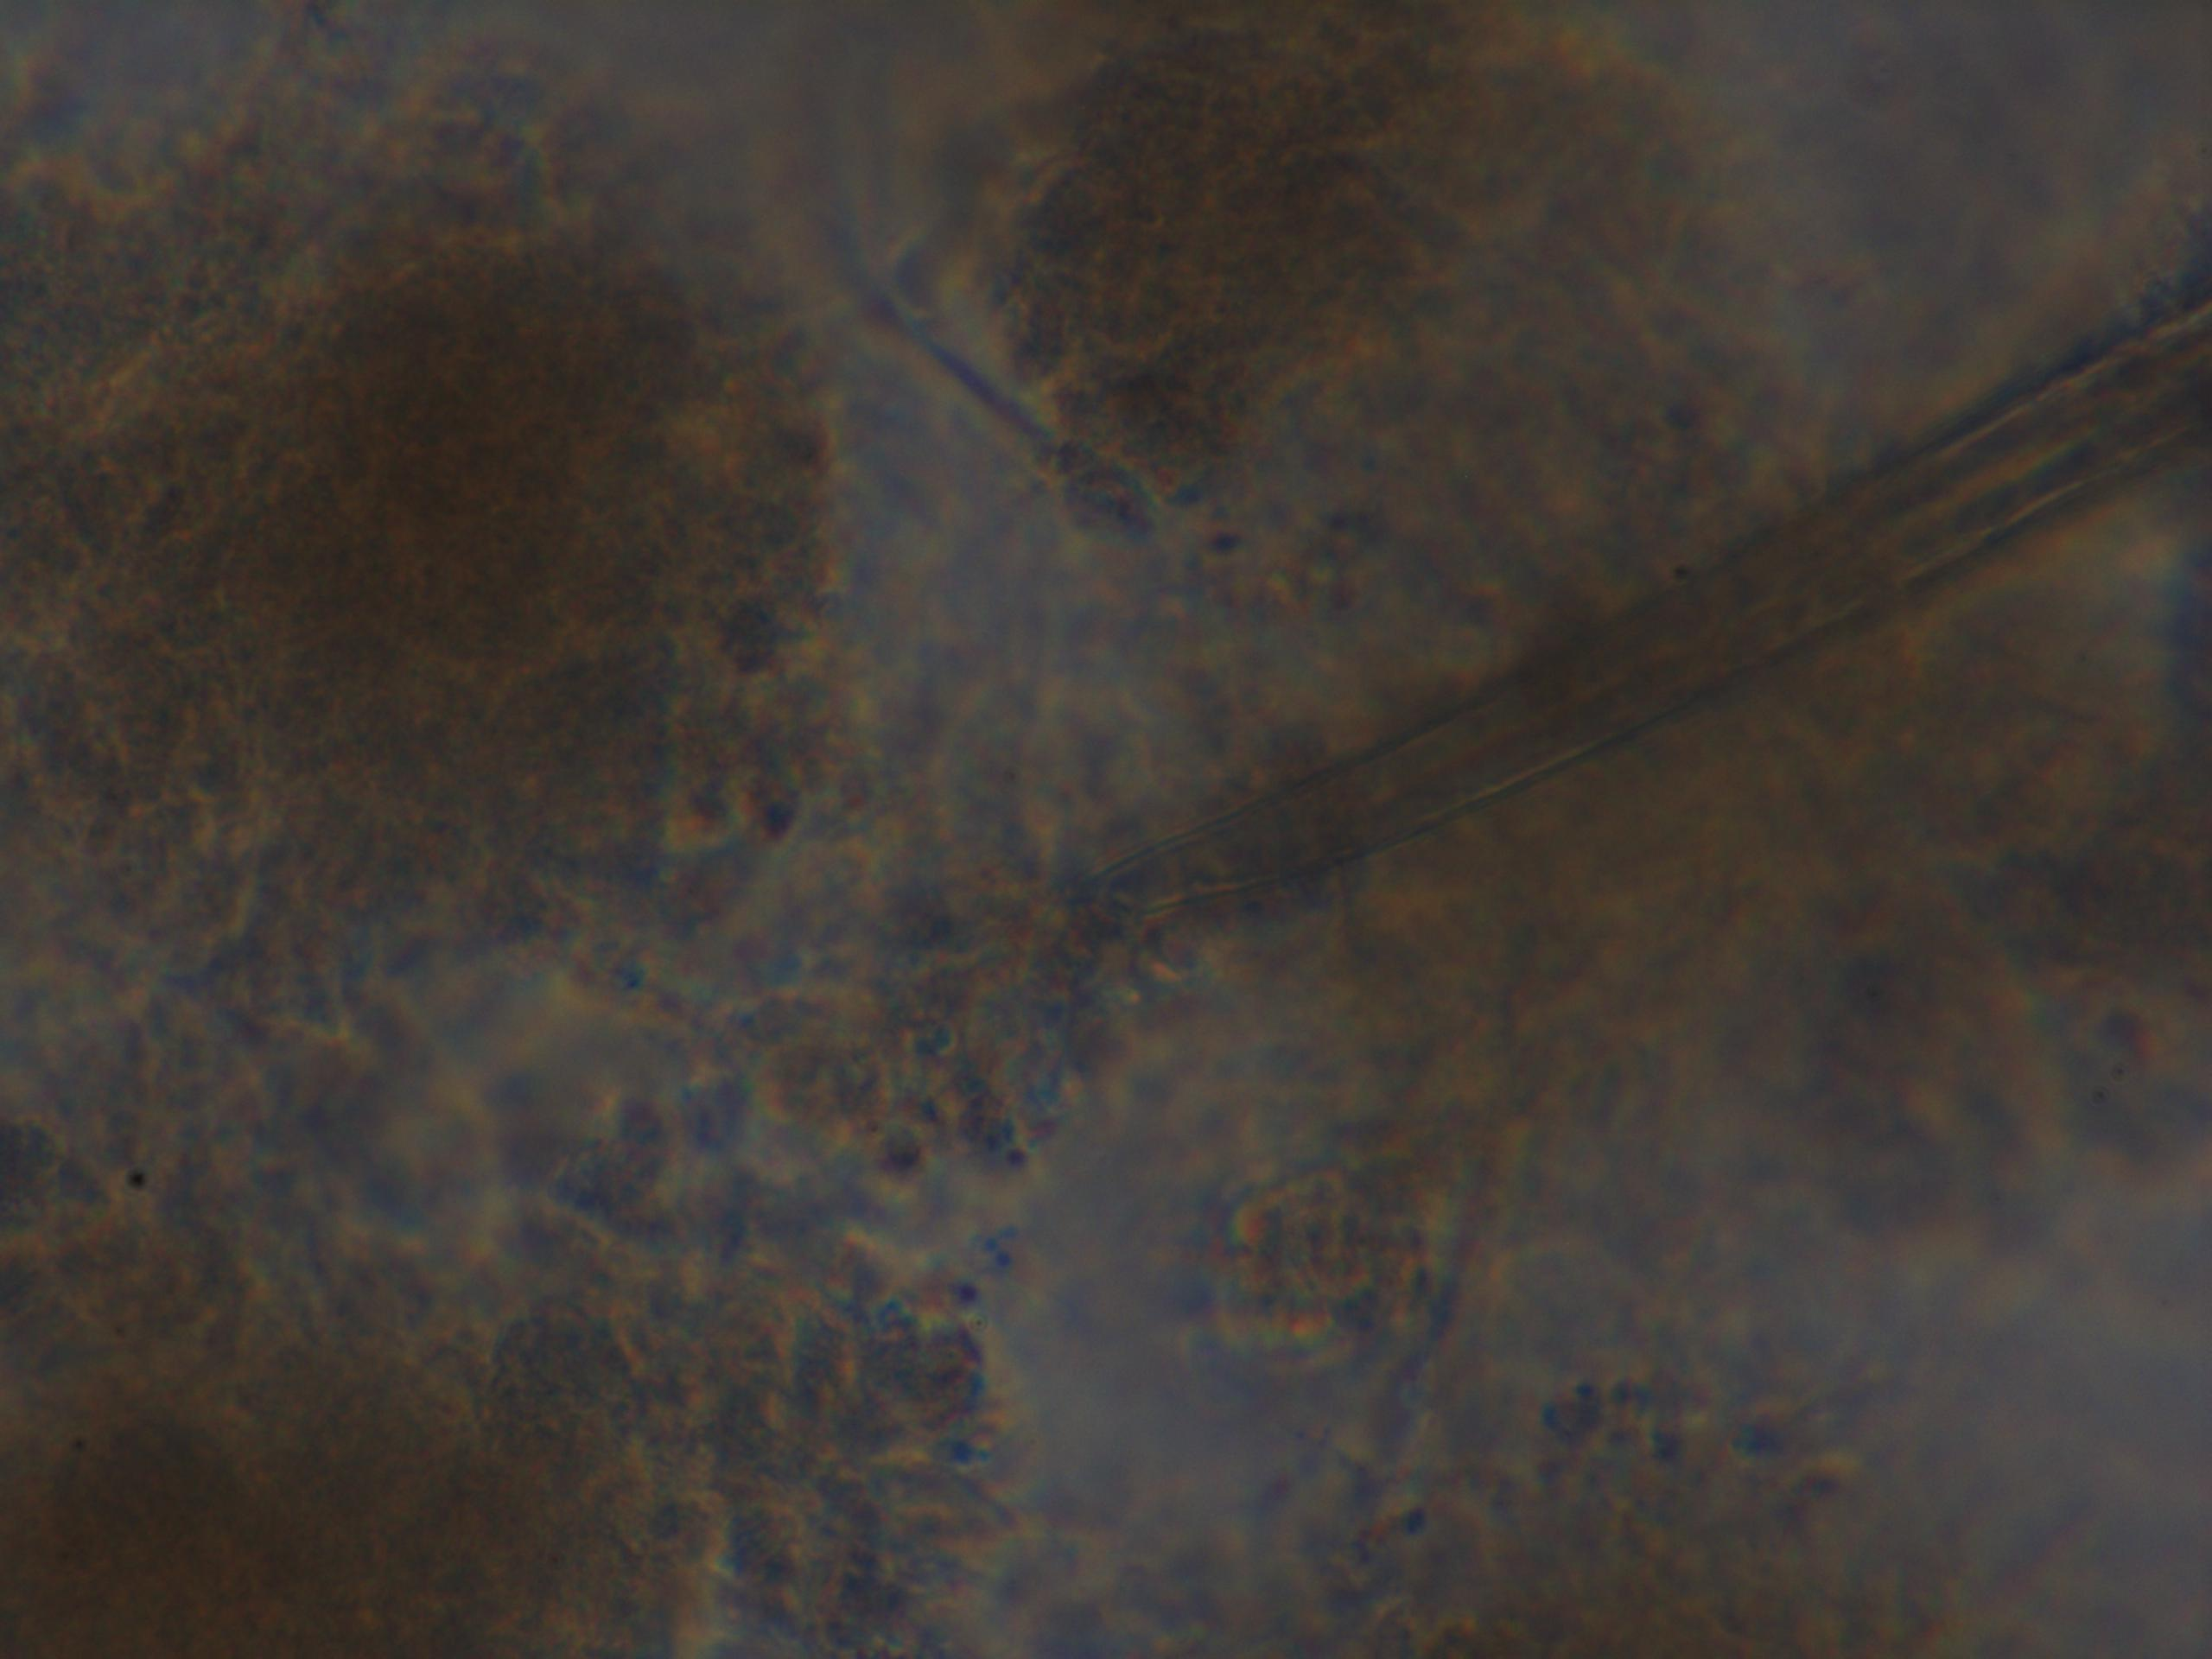spherical_floc: (19, 152, 852, 992)
